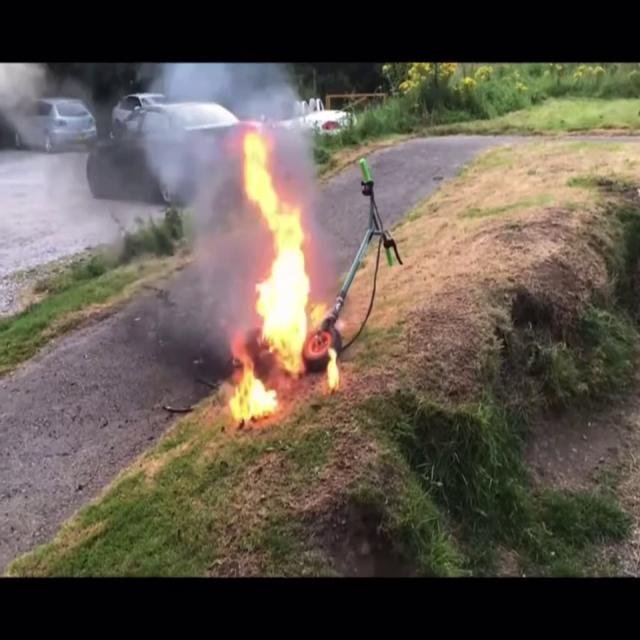Fire: (220, 126, 338, 422)
Smoke: (152, 102, 252, 348), (135, 64, 326, 177)
